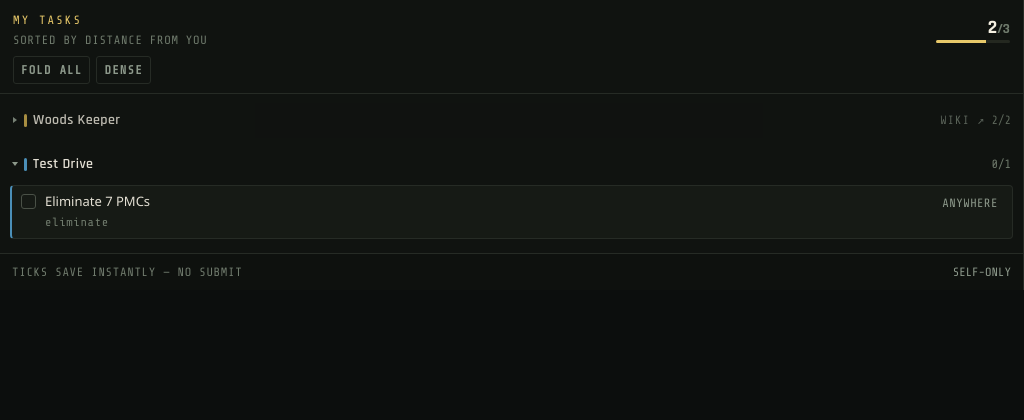
Test: MyTasksPanel › folds a finished quest by default and reopens it on request
The image size is (1024, 420).
Expected: the text "Woods Keeper" is shown, 33,111 -> 120,129
Expected: the button titled "Eliminate 7 PMCs" is shown, 10,185 -> 1013,238
Click the button "Woods Keeper" at (77, 120), box 12,106 -> 934,134
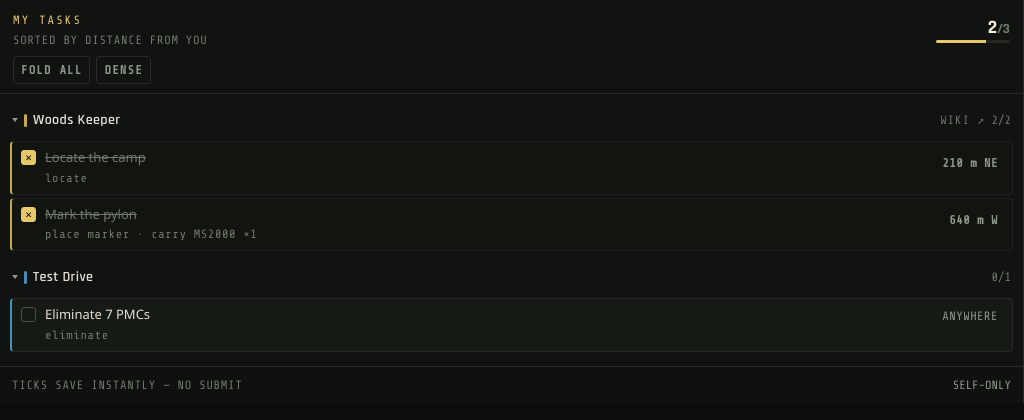
Expected: the button titled "Locate the camp" is shown, 10,141 -> 1013,194
